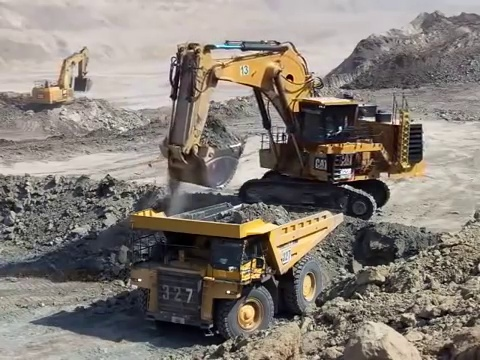dumper: (129, 208, 346, 338)
excavator: (160, 40, 427, 217), (32, 46, 92, 107)
